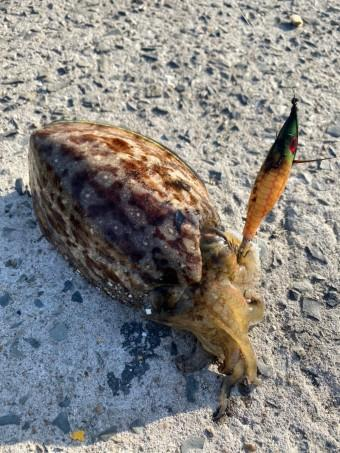Cephalopod: (29, 123, 265, 384)
